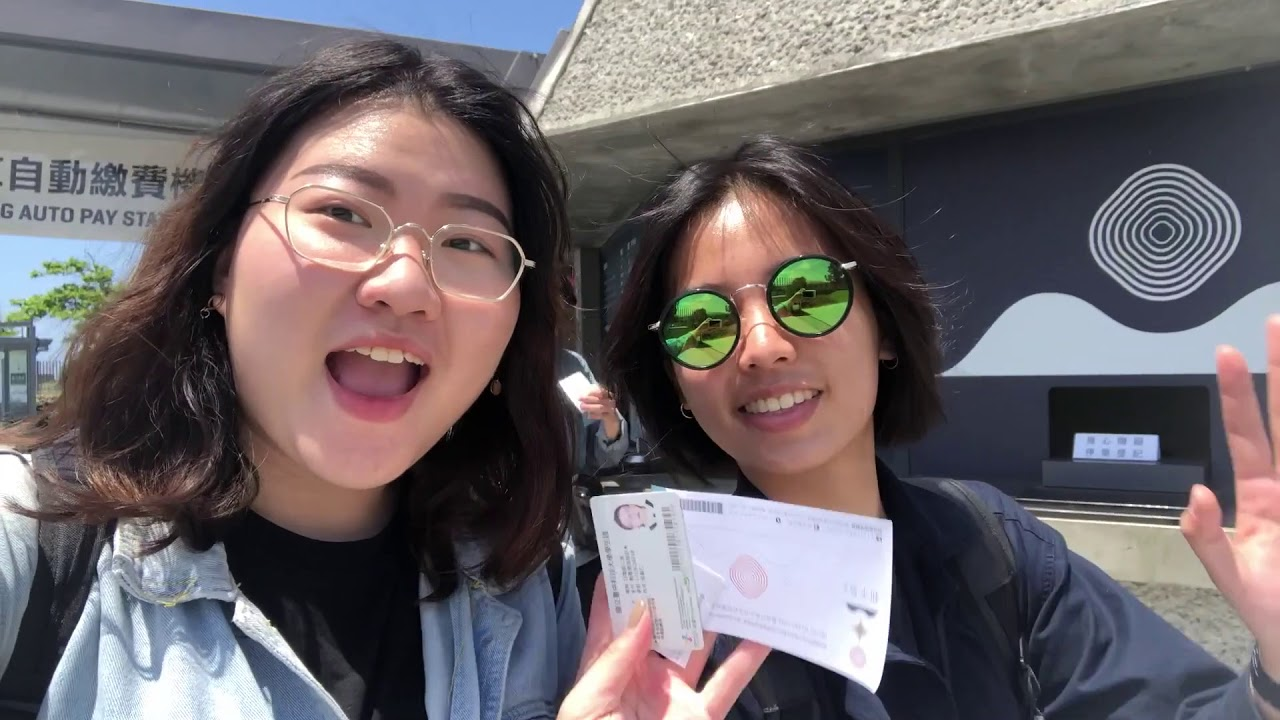people: (1, 51, 571, 720), (578, 138, 997, 720)
